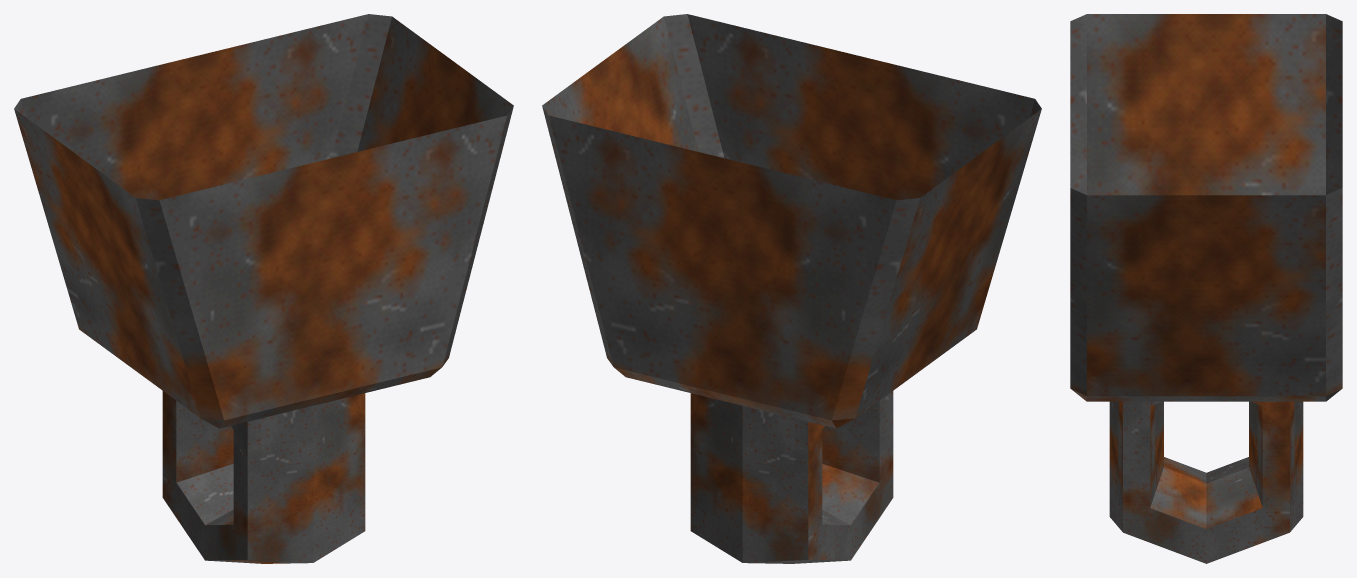
The model's file is ChainlinkSupport.fbx.
3 renders of one model, left to right at view 1: azimuth 30°, elevation 25°; view 2: azimuth 150°, elevation 25°; view 3: azimuth 270°, elevation 25°, orthographic.
Parts seen in each view (by area): view 1: ChainlinkSupport, Chainlink; view 2: ChainlinkSupport, Chainlink; view 3: ChainlinkSupport, Chainlink.
Part boxes in pixels (bbox=[...]): ChainlinkSupport: bbox=[14, 14, 513, 428]; Chainlink: bbox=[162, 391, 365, 563]; ChainlinkSupport: bbox=[542, 14, 1041, 428]; Chainlink: bbox=[690, 391, 893, 563]; ChainlinkSupport: bbox=[1070, 14, 1342, 401]; Chainlink: bbox=[1109, 401, 1303, 563].
Size of the model in its own units: 0.259 by 0.299 by 0.1644.
Materials: 1 (1 with a texture image).
